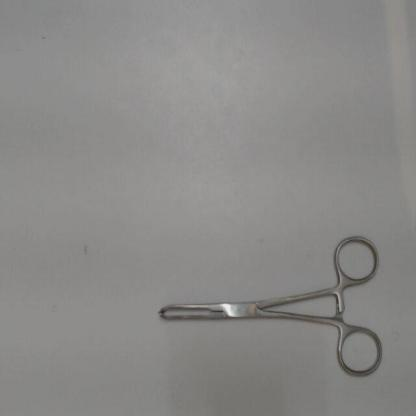Allis Tissue Forceps: (150, 223, 385, 386)
